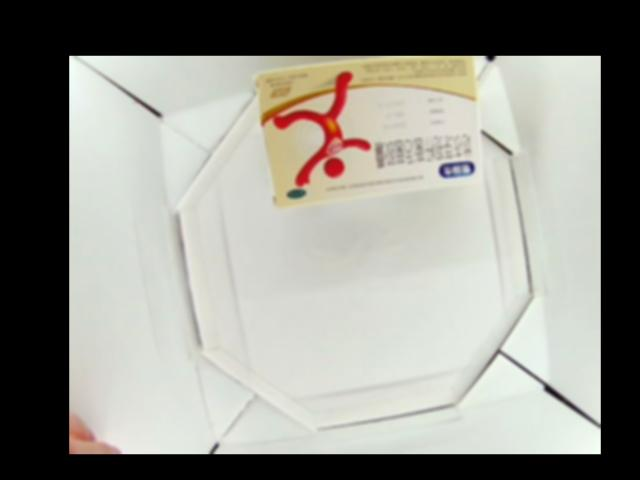Medicine: (258, 56, 483, 209)
